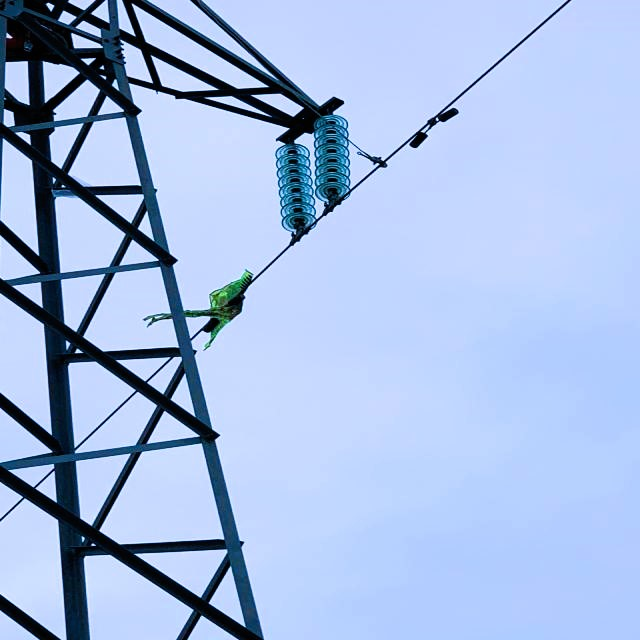wire foreign body: (180, 263, 268, 347)
